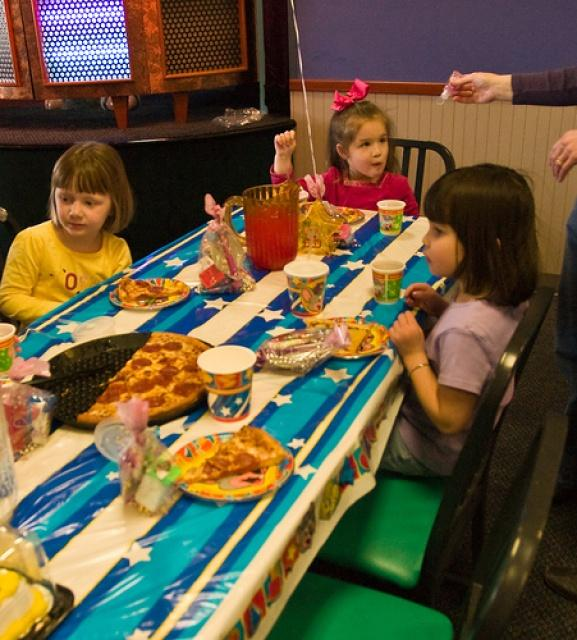Kursi: (310, 285, 555, 604)
